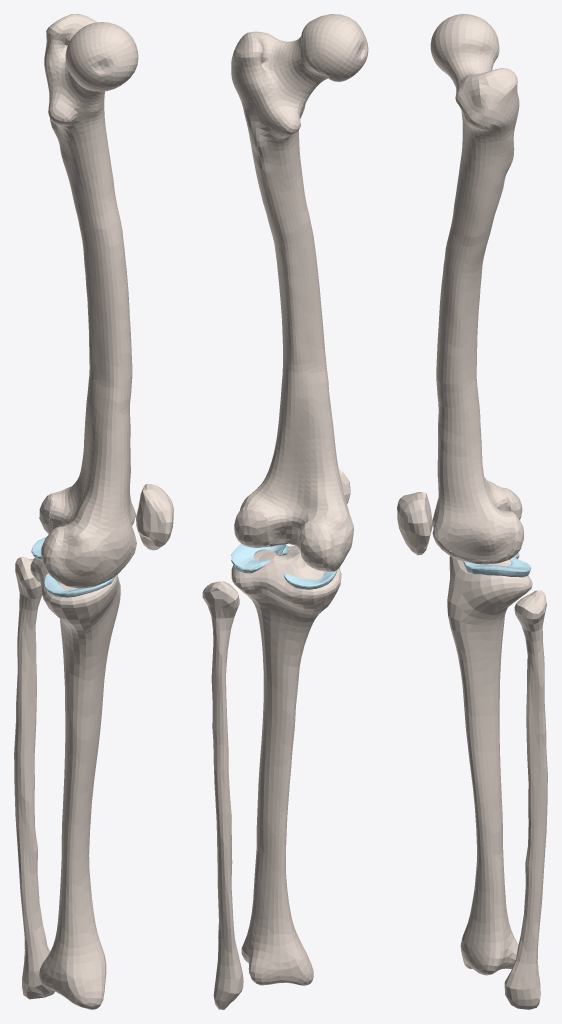
Rendered from VH_F_Knee_L_0.6.glb.
The picture shows the model from 3 angles, left to right: view 1: azimuth 90°, elevation 25°; view 2: azimuth 150°, elevation 25°; view 3: azimuth 270°, elevation 25°; orthographic projection. The views are drawn at different scales.
Visible parts, largest first — view 1: VH_F_femur_L, VH_F_tibia_L, VH_F_fibula_L, VH_F_patella_L, VH_F_meniscus_L, VH_F_medial_perichondular_surface_L, VH_F_medial_condyle_of_left_femur_inf, VH_F_articular_cartilage_of_knee_L, VH_F_medial_epicondylar_enthesis_L; view 2: VH_F_femur_L, VH_F_tibia_L, VH_F_fibula_L, VH_F_meniscus_L, VH_F_medial_condyle_of_left_femur_inf, VH_F_lateral_condyle_of_femur_inf_L, VH_F_anterior_cruciate_enthesis_L, VH_F_posterior_cruciate_enthesis_L; view 3: VH_F_femur_L, VH_F_tibia_L, VH_F_fibula_L, VH_F_patella_L, VH_F_meniscus_L, VH_F_lateral_perichondular_surface_L, VH_F_articular_cartilage_of_knee_L, VH_F_lateral_condyle_of_femur_inf_L.
Boxes of the visible parts, x1,y1,x2,y2 form: VH_F_femur_L: (44,14,138,584); VH_F_tibia_L: (30,558,120,1009); VH_F_fibula_L: (14,557,54,999); VH_F_patella_L: (136,483,173,550); VH_F_meniscus_L: (31,537,115,597); VH_F_medial_perichondular_surface_L: (69,550,105,575); VH_F_medial_condyle_of_left_femur_inf: (41,528,59,581); VH_F_articular_cartilage_of_knee_L: (48,493,136,586); VH_F_medial_epicondylar_enthesis_L: (62,542,102,569); VH_F_femur_L: (231,14,368,567); VH_F_tibia_L: (231,545,341,985); VH_F_fibula_L: (202,581,243,1009); VH_F_meniscus_L: (231,543,337,589); VH_F_medial_condyle_of_left_femur_inf: (299,524,333,570); VH_F_lateral_condyle_of_femur_inf_L: (234,506,268,547); VH_F_anterior_cruciate_enthesis_L: (267,515,286,544); VH_F_posterior_cruciate_enthesis_L: (285,515,303,546); VH_F_femur_L: (430,14,519,559); VH_F_tibia_L: (447,555,532,975); VH_F_fibula_L: (504,590,547,1009); VH_F_patella_L: (397,492,432,555); VH_F_meniscus_L: (463,552,531,577); VH_F_lateral_perichondular_surface_L: (468,527,500,549); VH_F_articular_cartilage_of_knee_L: (432,488,515,562); VH_F_lateral_condyle_of_femur_inf_L: (505,512,523,559).
Size of the model in its own units: 0.1016 by 0.772 by 0.1105.
